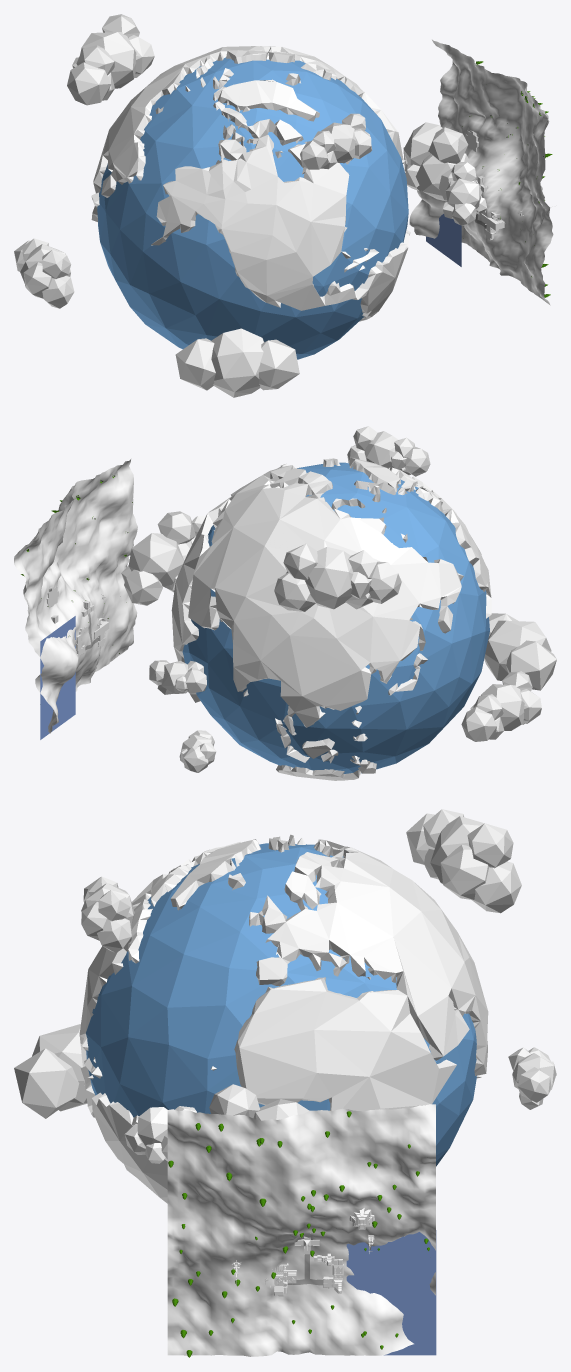
File: globe.glb
3 views of the same model, one above another, from view 1: azimuth 30°, elevation 25°; view 2: azimuth 150°, elevation 25°; view 3: azimuth 270°, elevation 25° (orthographic). The views are drawn at different scales.
Parts seen in each view (by area): view 1: low_poly_earth, Cloud_4.001, Landscape, Cloud_3, Plane; view 2: low_poly_earth, Cloud_4.001, Landscape, Plane; view 3: low_poly_earth, Landscape, Cloud_4.001, Plane, Cloud_3.
Boxes of the visible parts, x1,y1,x2,y2 form: low_poly_earth: (91,46,410,359); Cloud_4.001: (14,14,475,397); Landscape: (409,39,553,305); Cloud_3: (442,162,487,225); Plane: (426,214,461,266); low_poly_earth: (171,457,491,780); Cloud_4.001: (121,426,556,772); Landscape: (14,459,137,733); Plane: (40,616,75,739); low_poly_earth: (79,834,488,1203); Landscape: (167,1104,435,1356); Cloud_4.001: (14,809,556,1120); Plane: (346,1230,436,1355); Cloud_3: (124,1106,196,1163).
Bounding box in the file's own units: 4.6 × 2.58 × 3.4.
